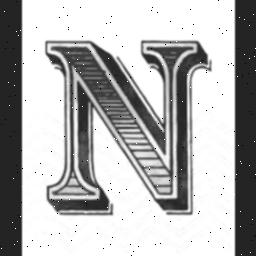n: (40, 36, 212, 220)
